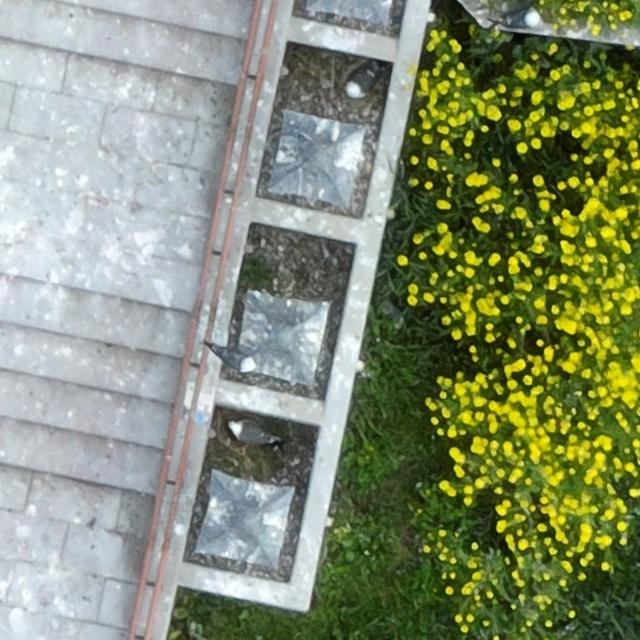umineko: (230, 424, 270, 444), (215, 350, 255, 370), (347, 70, 376, 97)
